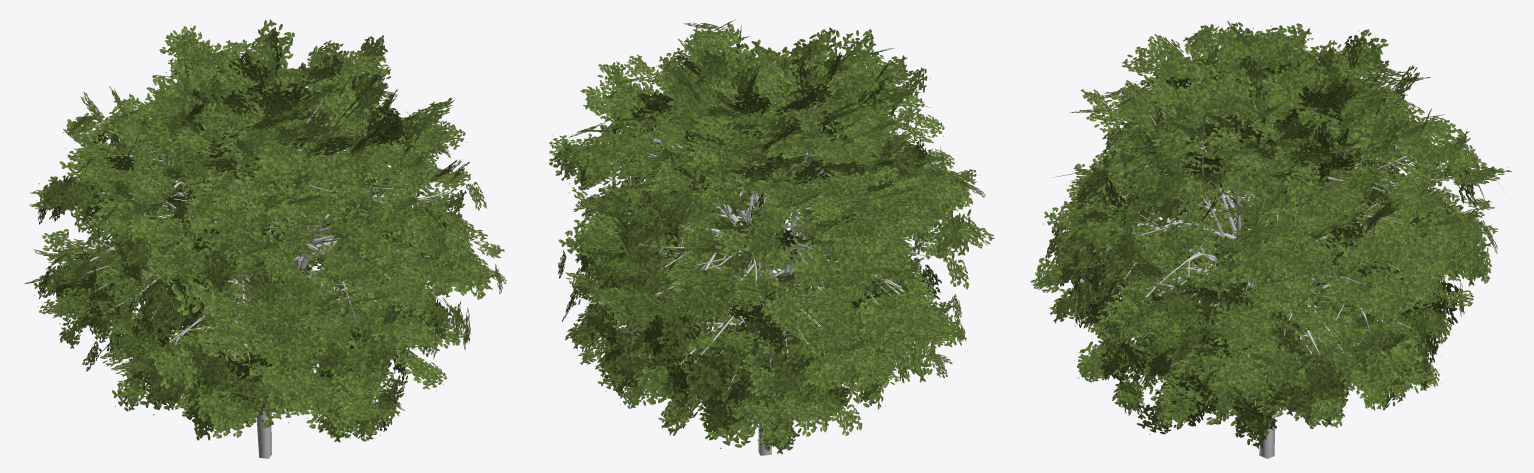
Rendered from oak_0.gltf.
The picture shows the model from 3 angles, left to right: view 1: azimuth 30°, elevation 25°; view 2: azimuth 150°, elevation 25°; view 3: azimuth 270°, elevation 25°; orthographic projection.
Parts seen in each view (by area): view 1: LOD0; view 2: LOD0; view 3: LOD0.
Boxes of the visible parts, left/top/right/bottom form: LOD0: left=24, top=19, right=506, bottom=458; LOD0: left=549, top=19, right=994, bottom=455; LOD0: left=1030, top=20, right=1511, bottom=458.
Size of what is drawn, in the model's own units: 13.47 by 12.85 by 13.74.
